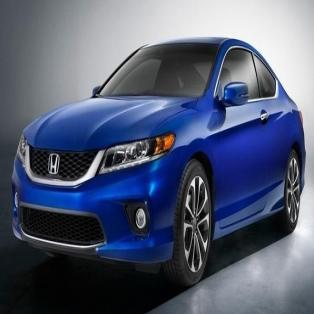Auto: (11, 40, 307, 285)
